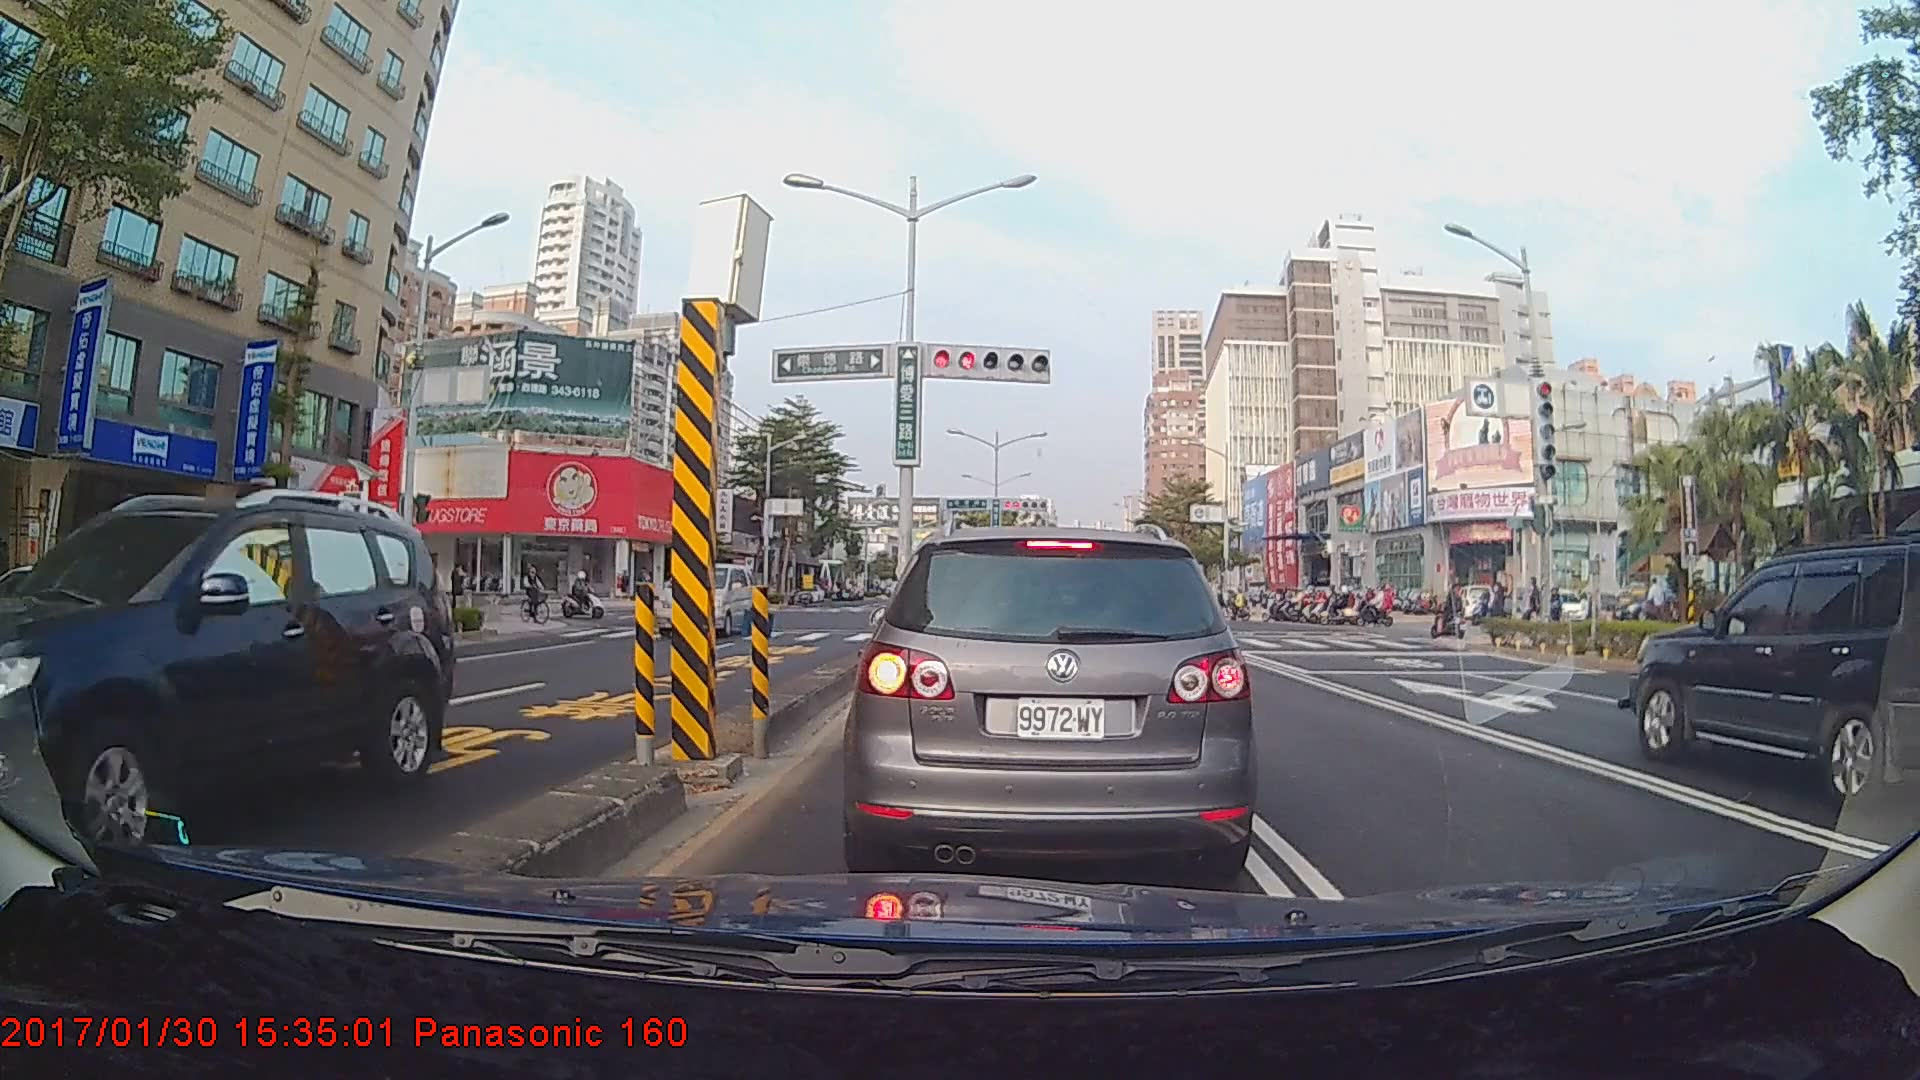pedestrian: (1646, 576, 1667, 635)
rider: (562, 566, 609, 619), (1426, 582, 1465, 637)
vehicle: (0, 494, 449, 851), (837, 516, 1260, 881), (1626, 537, 1920, 810), (653, 561, 756, 638)
